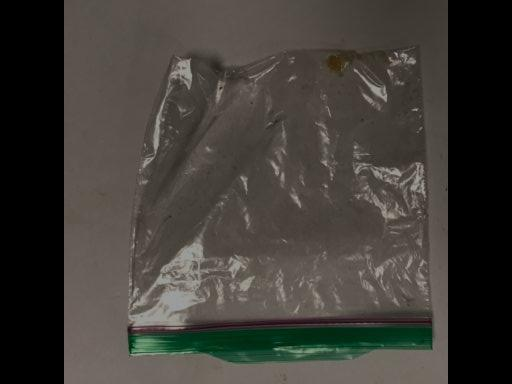trash: (126, 41, 432, 366)
